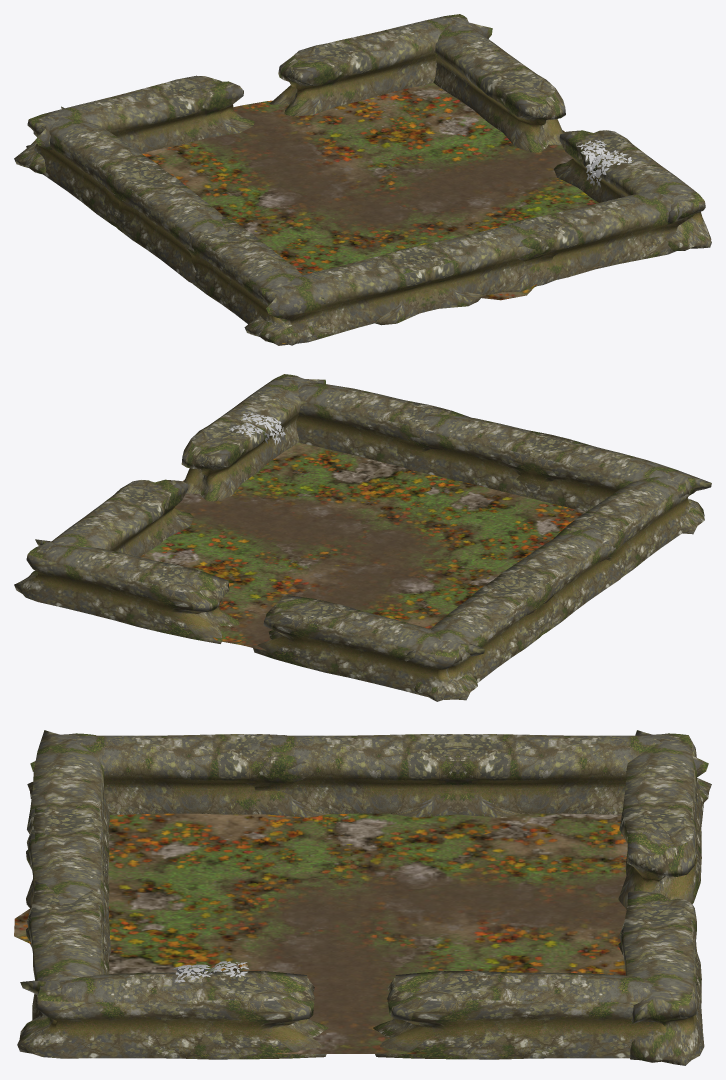
Rendered from Exterior_2_Puertas_1_Grande.fbx.
3 renders of one model, top to bottom at view 1: azimuth 30°, elevation 25°; view 2: azimuth 150°, elevation 25°; view 3: azimuth 270°, elevation 25°, orthographic. The views are drawn at different scales.
Visible parts, largest first — view 1: polySurface99; view 2: polySurface99; view 3: polySurface99.
Part boxes in pixels (box(x1,y1,x2,y2)): polySurface99: box(14, 14, 711, 345); polySurface99: box(14, 374, 711, 701); polySurface99: box(14, 730, 711, 1065).
Size of the model in its own units: 503 by 57.98 by 513.
